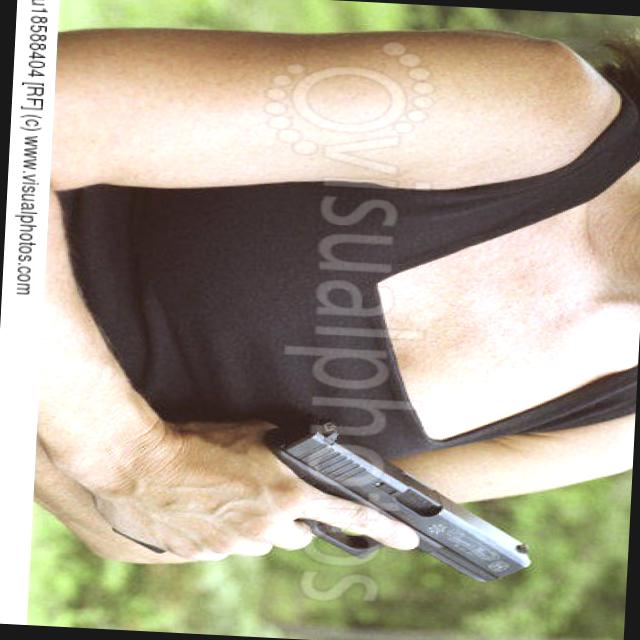handgun: (252, 412, 546, 594)
